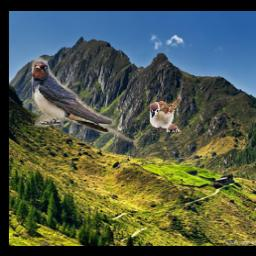Sparrow: (150, 97, 184, 132)
Swallow: (31, 58, 137, 143)
